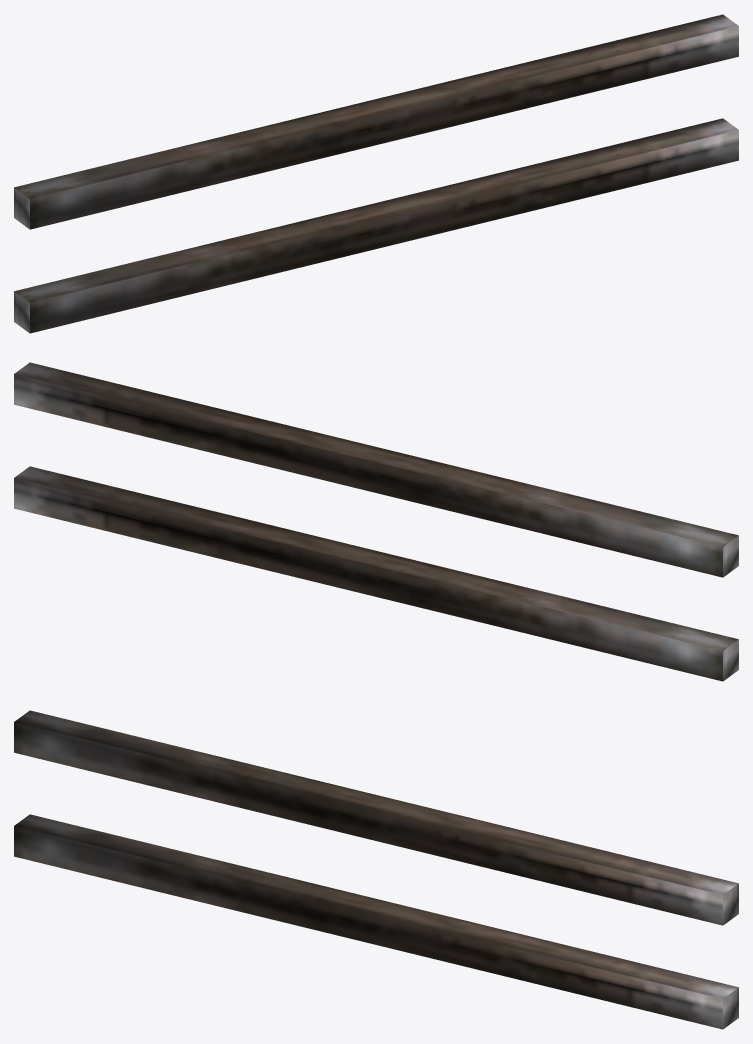
Rendered from stwa5.dae.
The picture shows the model from 3 angles, top to bottom: view 1: azimuth 30°, elevation 25°; view 2: azimuth 150°, elevation 25°; view 3: azimuth 330°, elevation 25°; orthographic projection.
Parts seen in each view (by area): view 1: fence; view 2: fence; view 3: fence.
Part boxes in pixels (box(x1,y1,x2,y2)): fence: box(14, 14, 738, 333); fence: box(14, 362, 738, 681); fence: box(14, 710, 738, 1029).
Bounding box in the file's own units: 3.9 × 0.152 × 0.7071.
1 material, 1 textured.
